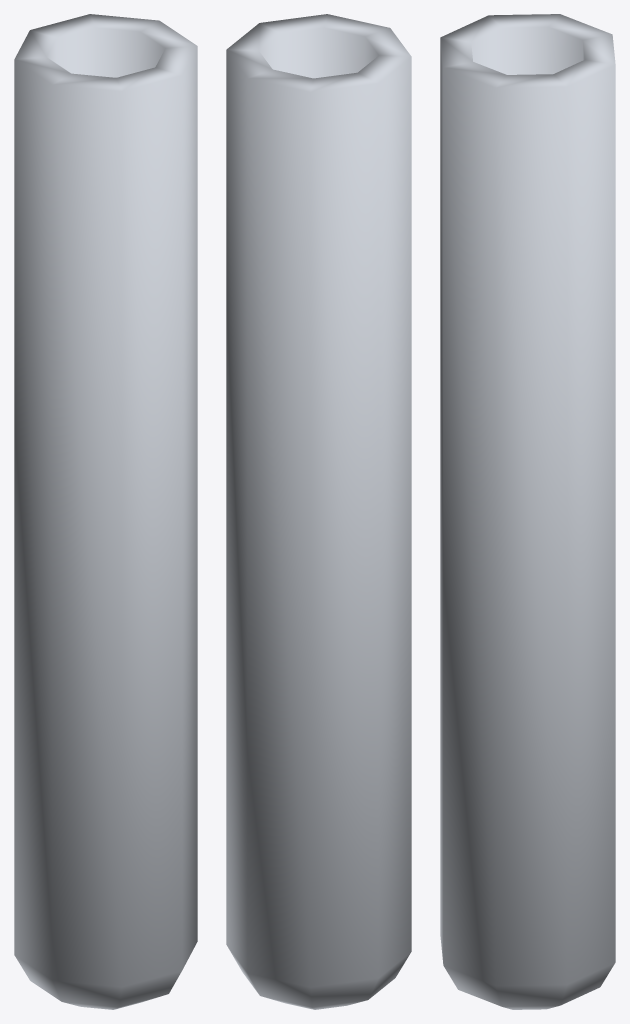
The model's file is bottle_glassware_test_tube_small.glb.
The picture shows the model from 3 angles, left to right: view 1: azimuth 30°, elevation 25°; view 2: azimuth 150°, elevation 25°; view 3: azimuth 270°, elevation 25°; orthographic projection.
Visible parts, largest first — view 1: bottle_glassware_test_tube_small; view 2: bottle_glassware_test_tube_small; view 3: bottle_glassware_test_tube_small.
Boxes of the visible parts, left/top/right/bottom form: bottle_glassware_test_tube_small: left=14, top=14, right=197, bottom=1009; bottle_glassware_test_tube_small: left=226, top=14, right=411, bottom=1009; bottle_glassware_test_tube_small: left=440, top=14, right=615, bottom=1009.
Bounding box in the file's own units: 2.13 × 12.65 × 2.13.
Materials: 1 (1 with a texture image).
